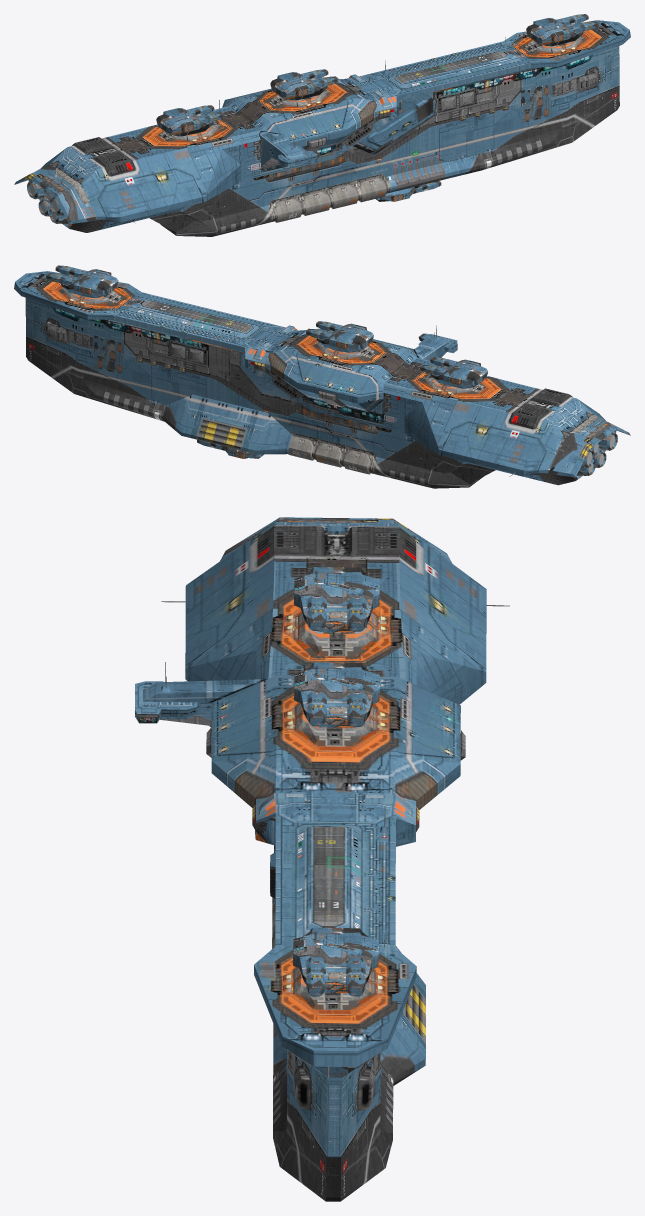
File: destroyer_a.FBX
The picture shows the model from 3 angles, top to bottom: view 1: azimuth 30°, elevation 25°; view 2: azimuth 150°, elevation 25°; view 3: azimuth 270°, elevation 25°; orthographic projection. The views are drawn at different scales.
Parts seen in each view (by area): view 1: group3, group21, group1, group12, group111, group15, group11, group5, group31, group18; view 2: group3, group21, group1, group111, group12, group15, group4, group31; view 3: group3, group21, group111, group12, group15, group1.
Boxes of the visible parts, x1=… form: group3: x1=21, y1=20, x2=630, y2=236; group21: x1=72, y1=22, x2=622, y2=222; group1: x1=14, y1=44, x2=621, y2=228; group12: x1=270, y1=72, x2=327, y2=100; group111: x1=156, y1=108, x2=213, y2=136; group15: x1=526, y1=18, x2=583, y2=46; group11: x1=367, y1=98, x2=430, y2=146; group5: x1=521, y1=83, x2=551, y2=123; group31: x1=27, y1=180, x2=60, y2=223; group18: x1=376, y1=185, x2=421, y2=201; group3: x1=14, y1=271, x2=605, y2=488; group21: x1=22, y1=273, x2=596, y2=476; group1: x1=105, y1=319, x2=630, y2=480; group111: x1=430, y1=359, x2=487, y2=388; group12: x1=316, y1=323, x2=373, y2=352; group15: x1=61, y1=269, x2=118, y2=297; group4: x1=94, y1=335, x2=124, y2=374; group31: x1=584, y1=431, x2=617, y2=475; group3: x1=135, y1=522, x2=486, y2=1201; group21: x1=161, y1=526, x2=509, y2=1111; group111: x1=294, y1=567, x2=379, y2=632; group12: x1=294, y1=662, x2=379, y2=727; group15: x1=293, y1=927, x2=378, y2=992; group1: x1=220, y1=517, x2=452, y2=1077.
Size of the model in its own units: 39056 by 9125 by 10867.
